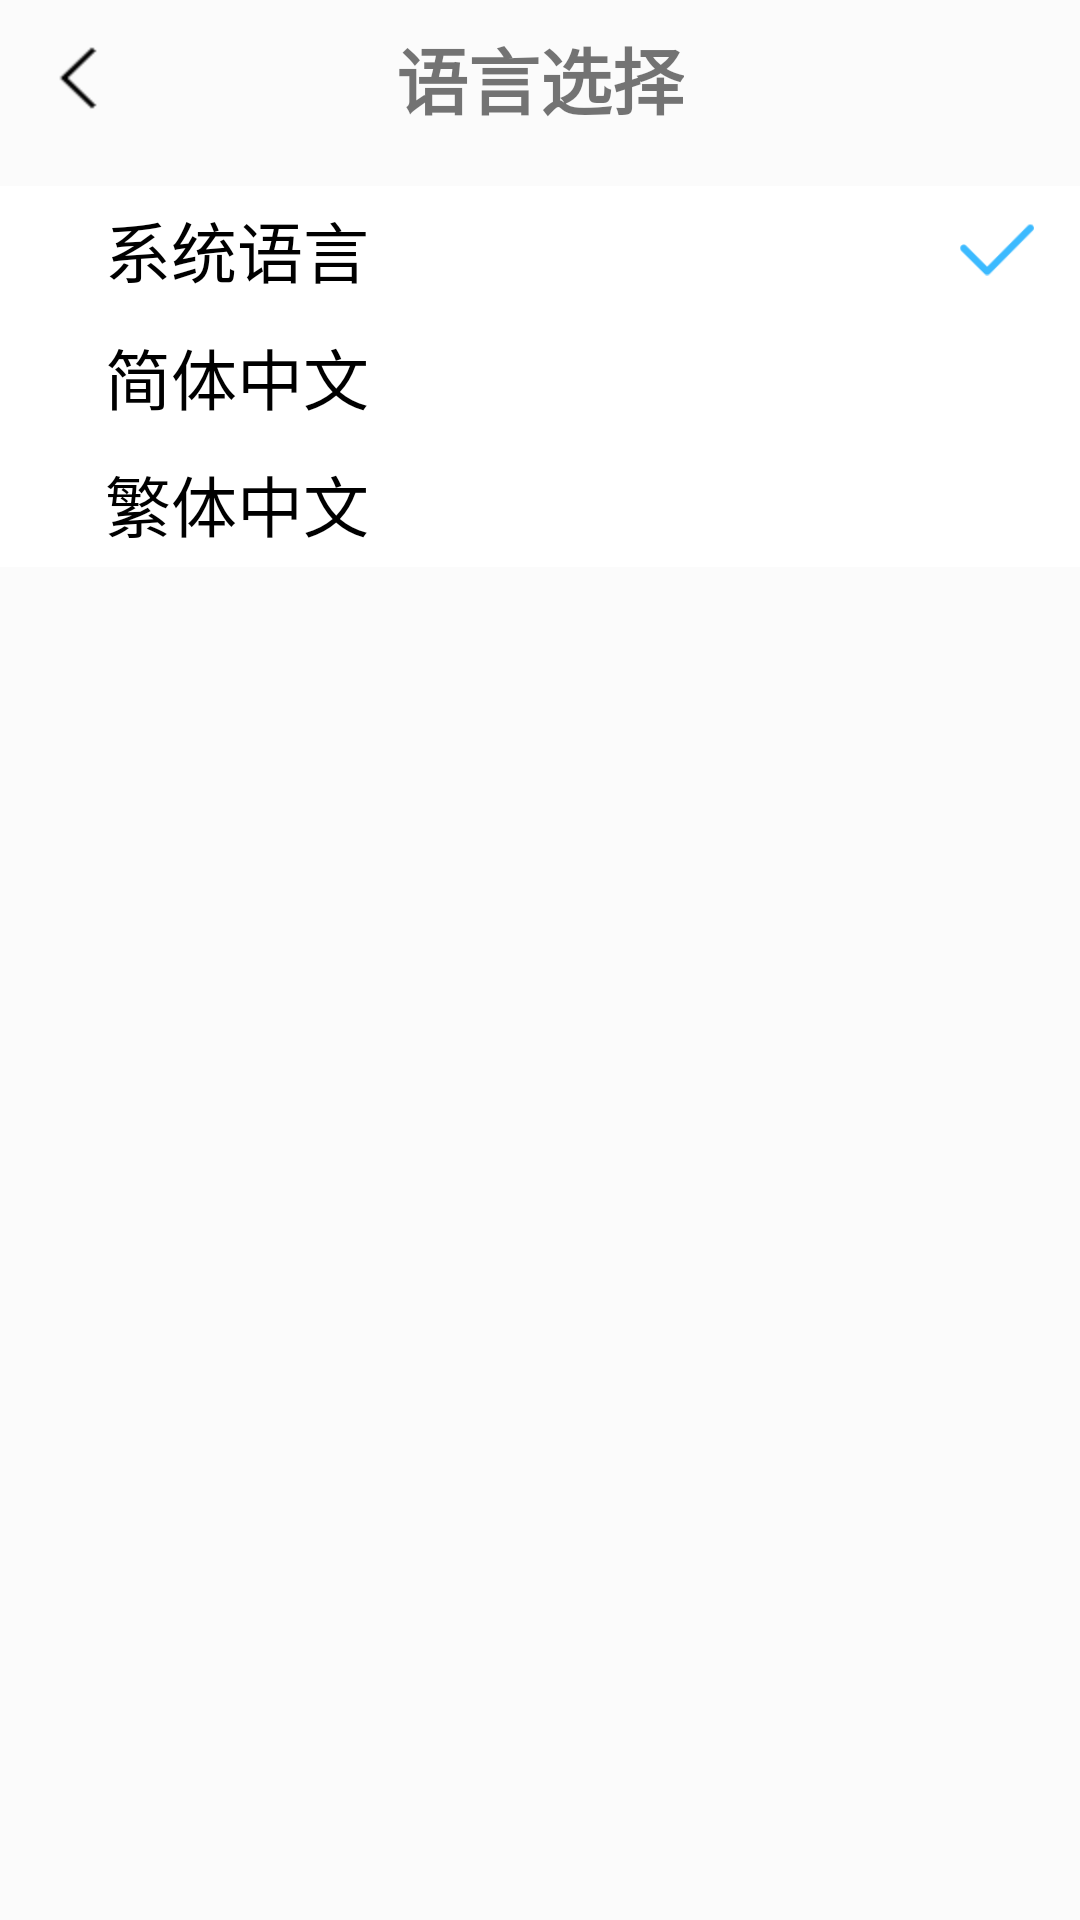

Where to tap for icons on this 1080px x 1920px app screen, as (x=x, y=y):
left arrow: (x=78, y=78)
tick: (x=997, y=250)
